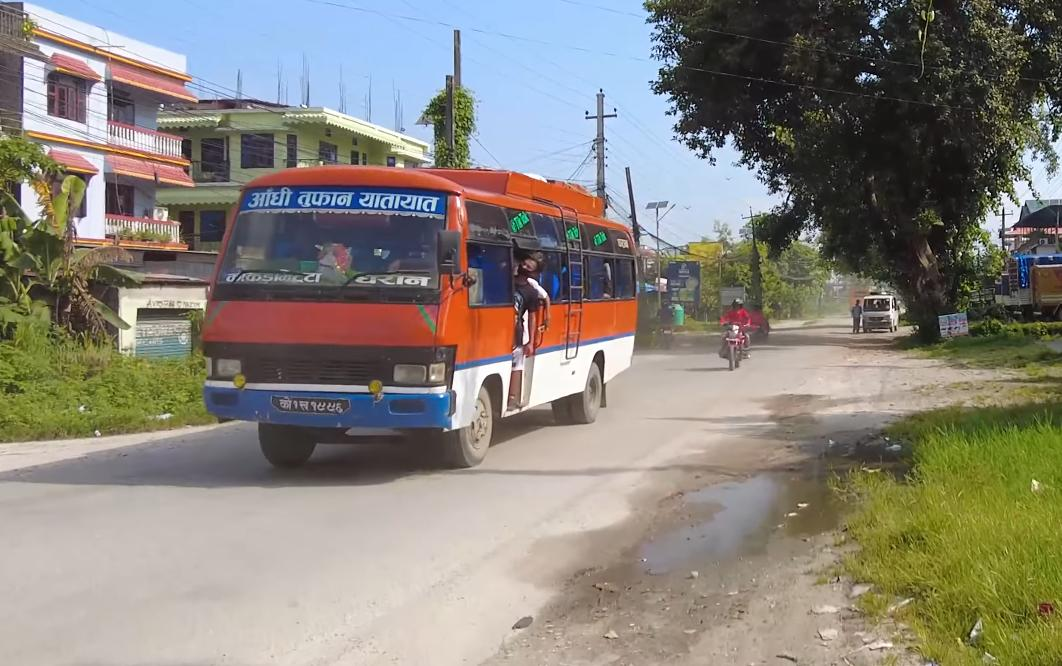bus: (201, 133, 643, 443)
